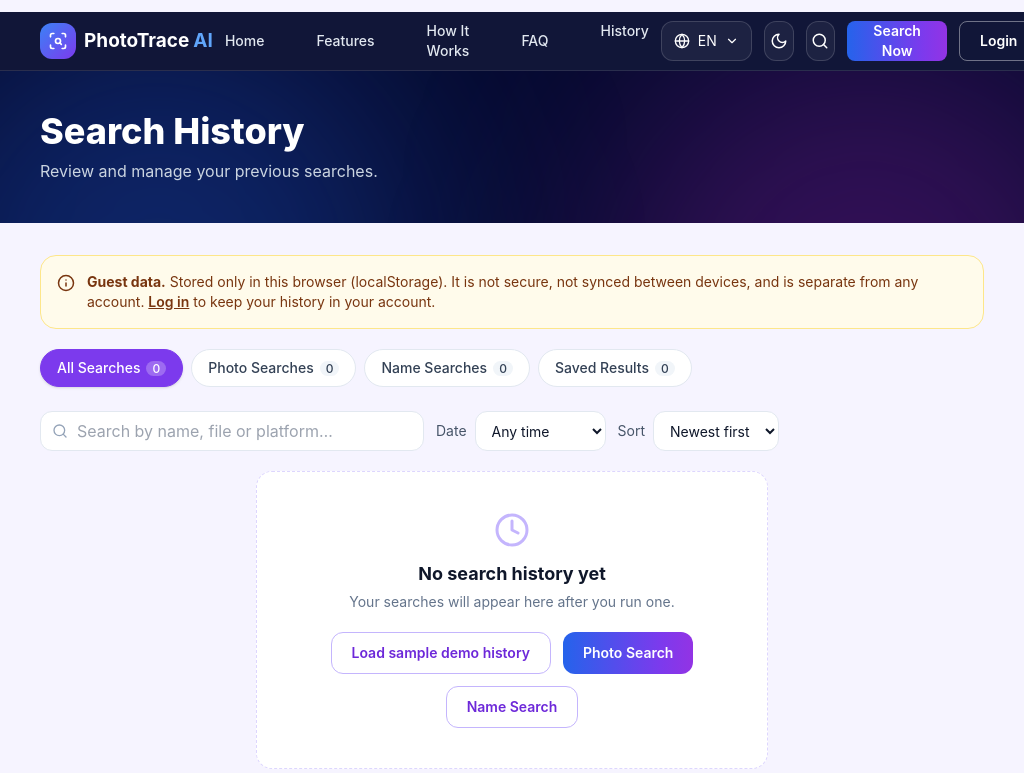
Test: search history (guest demo data) › keeps guest data in a guest-only key
Click the button "Load sample demo history": click(441, 653) [330, 632, 551, 674]
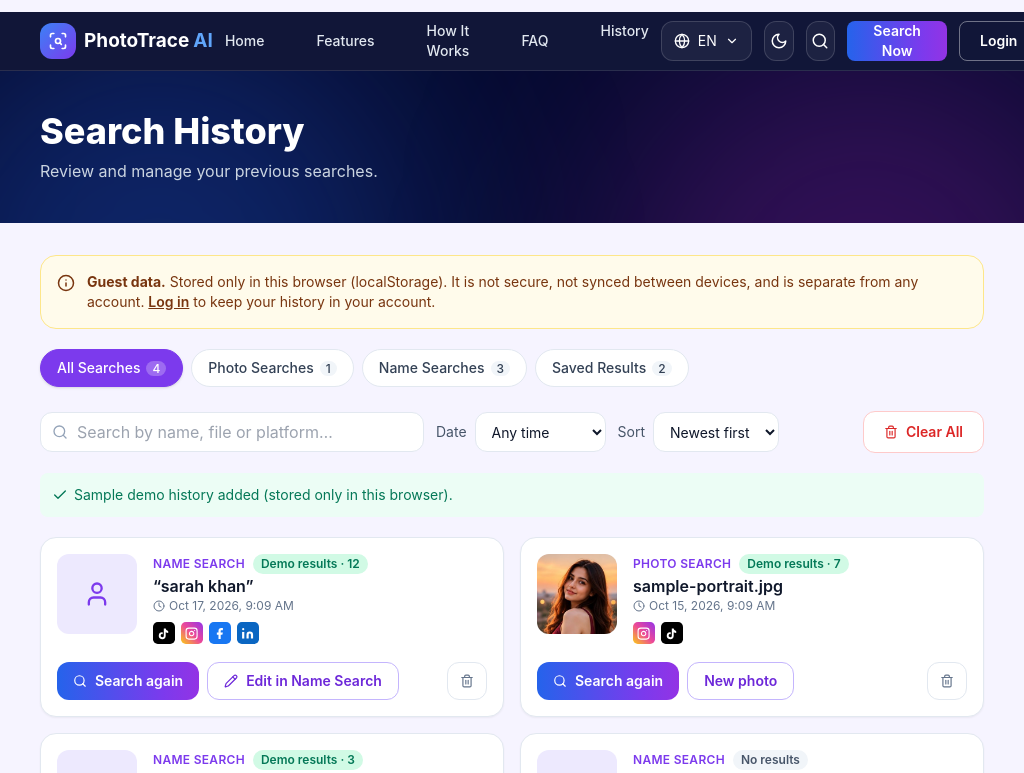
Result: the text "“sarah khan”" is shown at [153, 576, 254, 596]
